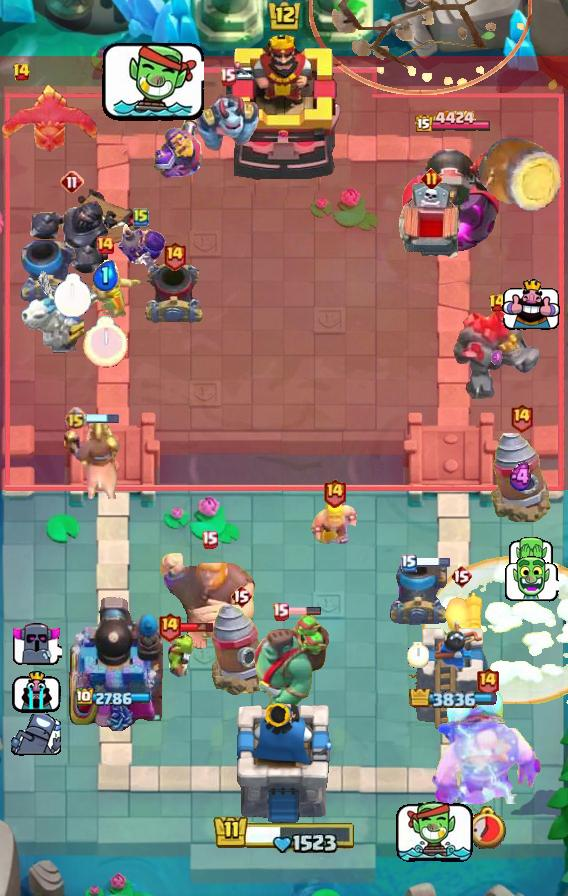archer: (310, 503, 358, 547)
balloon: (160, 550, 258, 652)
cannoneer-tower: (452, 307, 542, 401)
clock: (212, 811, 356, 853)
dirt: (477, 136, 563, 214)
electro-spirit: (508, 462, 536, 492), (92, 261, 118, 292), (492, 350, 505, 367)
elixir: (84, 316, 129, 368), (467, 805, 509, 849), (53, 273, 92, 318), (407, 642, 429, 668)
elixir-golem-mid: (396, 181, 466, 267)
elixir-golem-small: (193, 87, 261, 153)
emote: (416, 555, 453, 568), (84, 413, 120, 425), (181, 621, 216, 633), (286, 606, 322, 616)
firecracker-evolution: (150, 112, 209, 179)
freeze: (62, 419, 120, 499)
goblin-ball: (115, 224, 167, 280)
guard: (309, 0, 532, 95)
king-tower: (226, 33, 342, 181), (235, 703, 333, 826)
lava-hound: (249, 613, 333, 719)
little-prince: (431, 690, 543, 804)
magic-archer: (488, 428, 554, 526), (211, 603, 271, 697)
mini-pekka: (18, 271, 84, 355)
mother-witch: (0, 82, 100, 154)
musketeer: (143, 259, 205, 327), (20, 239, 80, 303), (388, 561, 448, 625)
phoenix-big: (422, 556, 568, 704)
poison: (58, 250, 152, 322)
queen-tower: (409, 616, 497, 731)
royal-guardian: (29, 192, 115, 278)
selected: (414, 110, 492, 135), (410, 689, 499, 707), (75, 688, 152, 708)
skeleton: (100, 40, 205, 126), (397, 800, 476, 863), (502, 279, 560, 331), (505, 556, 560, 602), (10, 622, 61, 666), (11, 667, 60, 712), (11, 715, 61, 758), (509, 538, 556, 575)
text: (509, 403, 534, 434), (321, 476, 346, 507), (158, 611, 183, 642), (476, 667, 501, 698), (162, 240, 186, 271), (60, 170, 84, 194), (65, 406, 88, 430), (450, 564, 472, 588), (230, 584, 252, 608), (421, 168, 442, 189), (95, 235, 115, 255), (12, 62, 31, 82), (489, 293, 508, 313), (219, 66, 236, 85), (201, 531, 218, 550), (272, 603, 289, 622), (133, 207, 149, 227), (401, 554, 417, 572)
tombstone: (439, 590, 483, 652)
tower-bar: (65, 593, 163, 731), (401, 138, 505, 256)
zap: (165, 630, 201, 680)
